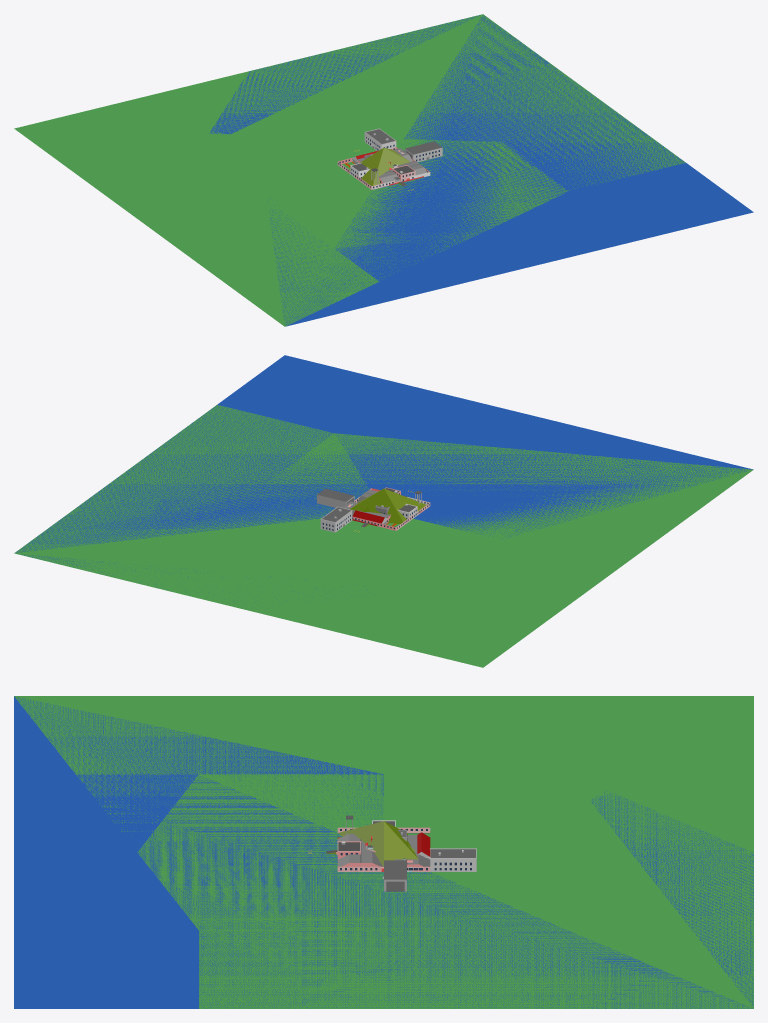
The picture shows the model from 3 angles, top to bottom: view 1: azimuth 30°, elevation 25°; view 2: azimuth 150°, elevation 25°; view 3: azimuth 270°, elevation 25°; orthographic projection. The views are drawn at different scales.
Parts seen in each view (by area): view 1: ko_058_lod0, ko_081_lod0, ko_000_lod0, ko_059_lod0, ko_062_lod0_s1v0, ko_001_lod0, ko_004_lod0; view 2: ko_058_lod0, ko_000_lod0, ko_059_lod0, ko_081_lod0, ko_062_lod0_s1v0, ko_004_lod0; view 3: ko_000_lod0, ko_058_lod0, ko_081_lod0, ko_059_lod0, ko_062_lod0_s1v0, ko_001_lod0, ko_004_lod0, ko_093_lod0_s1v0, ko_062_lod0_s1v0_detail, ko_029_lod0.
Part boxes in pixels (x1,y1,x2,y2): ko_058_lod0: (14,14,567,326); ko_081_lod0: (209,15,684,281); ko_000_lod0: (201,14,685,248); ko_059_lod0: (269,163,753,326); ko_062_lod0_s1v0: (364,129,442,181); ko_001_lod0: (18,124,227,134); ko_004_lod0: (349,147,410,185); ko_058_lod0: (14,433,753,667); ko_000_lod0: (14,404,532,589); ko_059_lod0: (217,355,753,536); ko_081_lod0: (15,405,582,602); ko_062_lod0_s1v0: (317,488,400,532); ko_004_lod0: (350,488,426,524); ko_000_lod0: (137,774,753,1008); ko_058_lod0: (14,696,753,1008); ko_081_lod0: (76,774,753,1008); ko_059_lod0: (14,696,383,1008); ko_062_lod0_s1v0: (337,831,476,891); ko_001_lod0: (591,696,753,799); ko_004_lod0: (338,821,418,866); ko_093_lod0_s1v0: (337,833,430,866); ko_062_lod0_s1v0_detail: (336,830,476,891); ko_029_lod0: (337,815,430,871).
Size of what is drawn, in the model's own units: 4096 by 192 by 4096.
